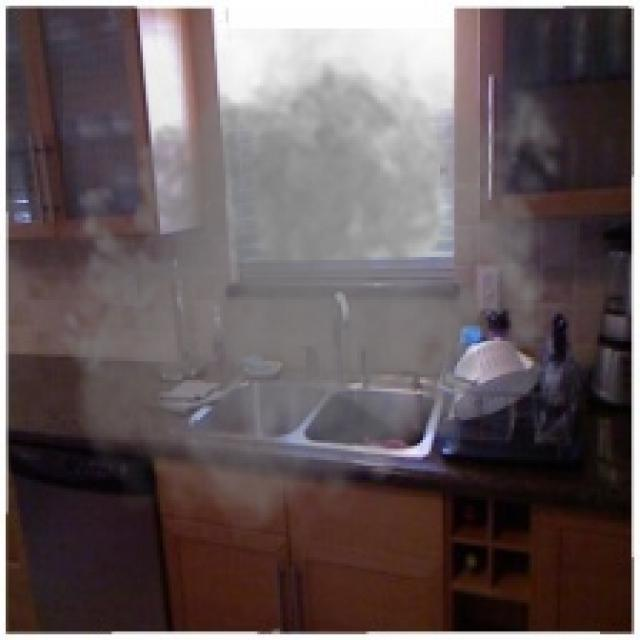Smoke: (51, 28, 578, 554)
